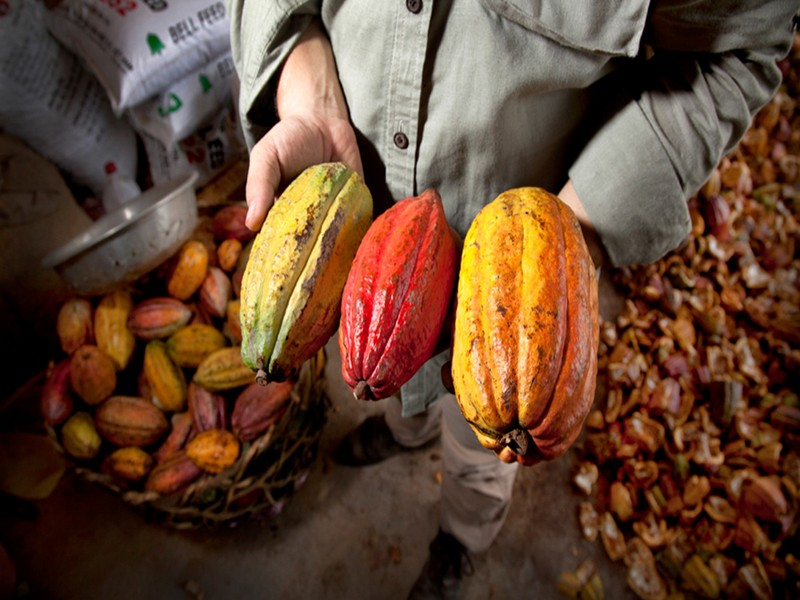Cacaopod: (449, 185, 602, 465)
